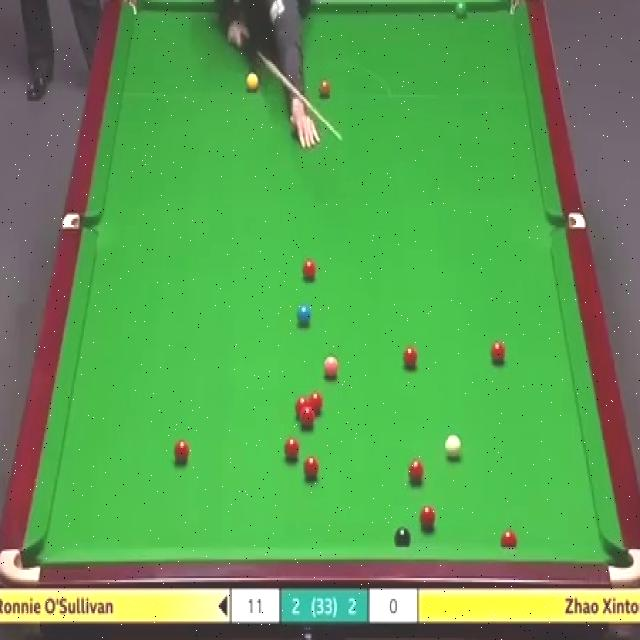black-ball: (395, 525, 411, 548)
blue-ball: (295, 304, 313, 326)
brown-ball: (318, 76, 331, 97)
green-ball: (454, 0, 468, 17)
pink-ball: (323, 356, 340, 382)
red-ball: (170, 440, 192, 465), (302, 258, 321, 286), (303, 452, 321, 481), (408, 458, 426, 486), (418, 506, 436, 533), (280, 439, 300, 462), (402, 342, 418, 370), (294, 396, 309, 422), (490, 341, 505, 366), (309, 392, 323, 416), (500, 528, 518, 546), (301, 410, 316, 430)
white-ball: (444, 433, 463, 462)
yellow-ball: (245, 75, 258, 92)
